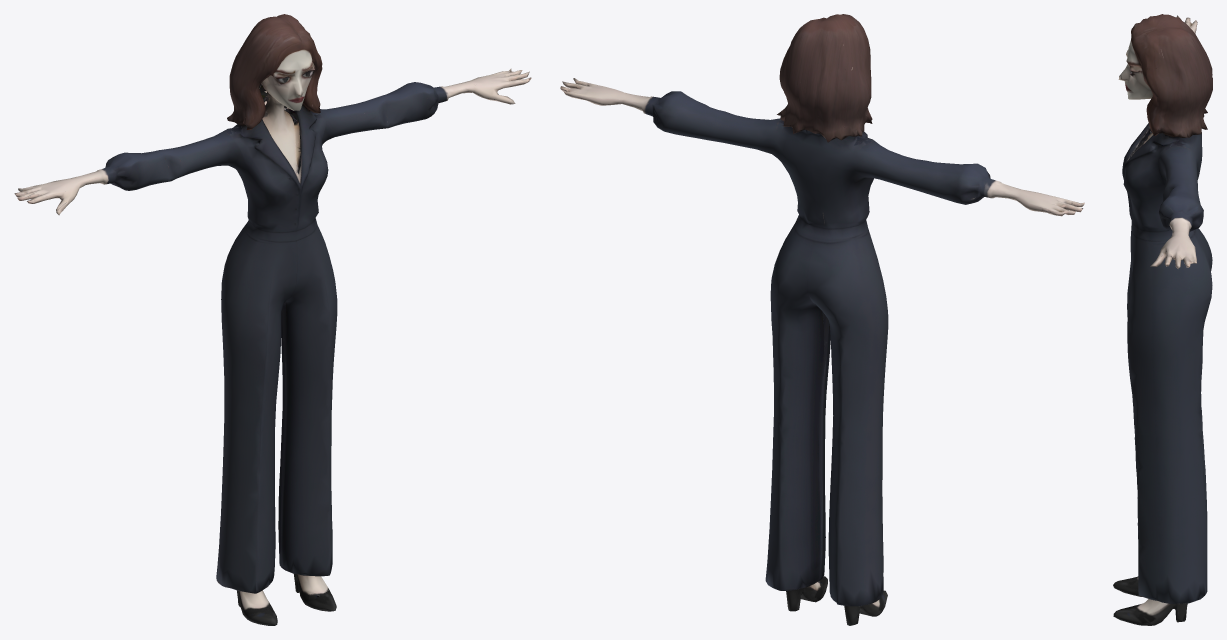
File: CalisanKadin2.fbx
3 views of the same model, side by side, from view 1: azimuth 30°, elevation 25°; view 2: azimuth 150°, elevation 25°; view 3: azimuth 270°, elevation 25° (orthographic).
Parts seen in each view (by area): view 1: Mesh_0; view 2: Mesh_0; view 3: Mesh_0.
Part boxes in pixels (x1=…): Mesh_0: x1=14, y1=14, x2=531, y2=625; Mesh_0: x1=560, y1=14, x2=1084, y2=625; Mesh_0: x1=1113, y1=14, x2=1212, y2=625.
Bounding box in the file's own units: 175 × 191 × 29.49.
1 material, 1 textured.
